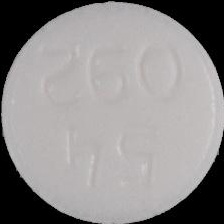0054-4741: (0, 0, 224, 224)
